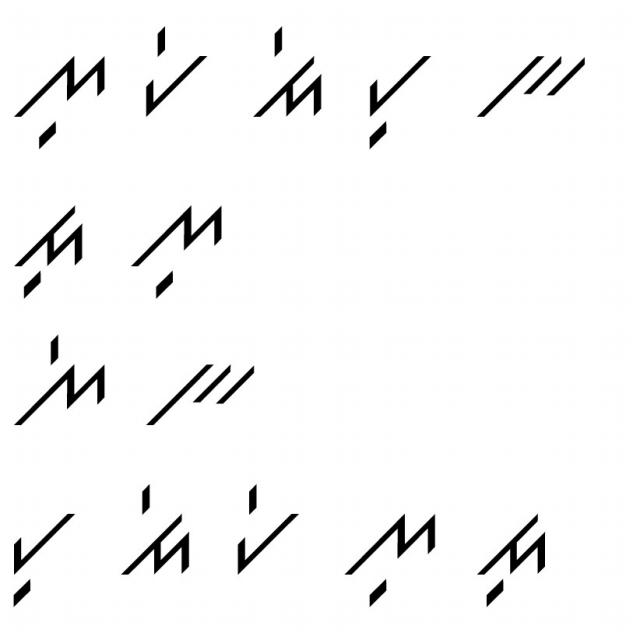de: (118, 482, 197, 596), (248, 22, 326, 124)
du: (468, 502, 553, 609), (13, 202, 90, 296)
ne: (11, 326, 109, 430)
nu: (10, 52, 114, 157), (129, 196, 230, 301), (339, 506, 438, 612)
pe: (230, 477, 306, 583), (142, 23, 214, 121)
pu: (10, 502, 84, 612), (364, 48, 436, 151)
